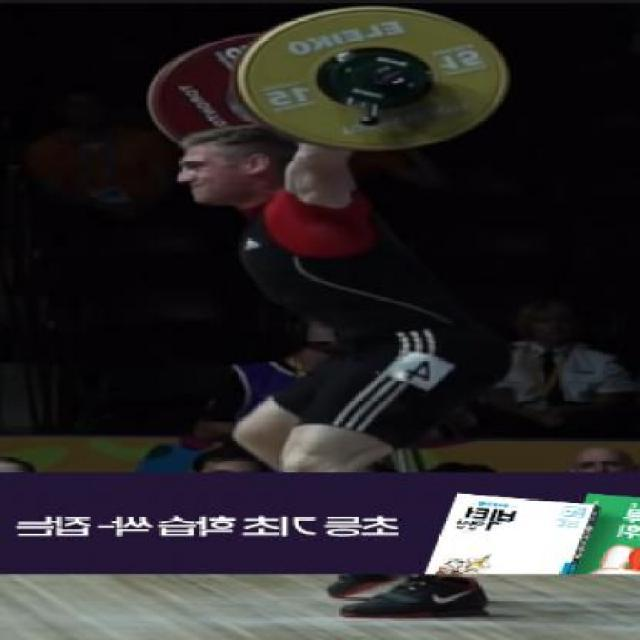Barbell: (369, 66, 428, 95)
